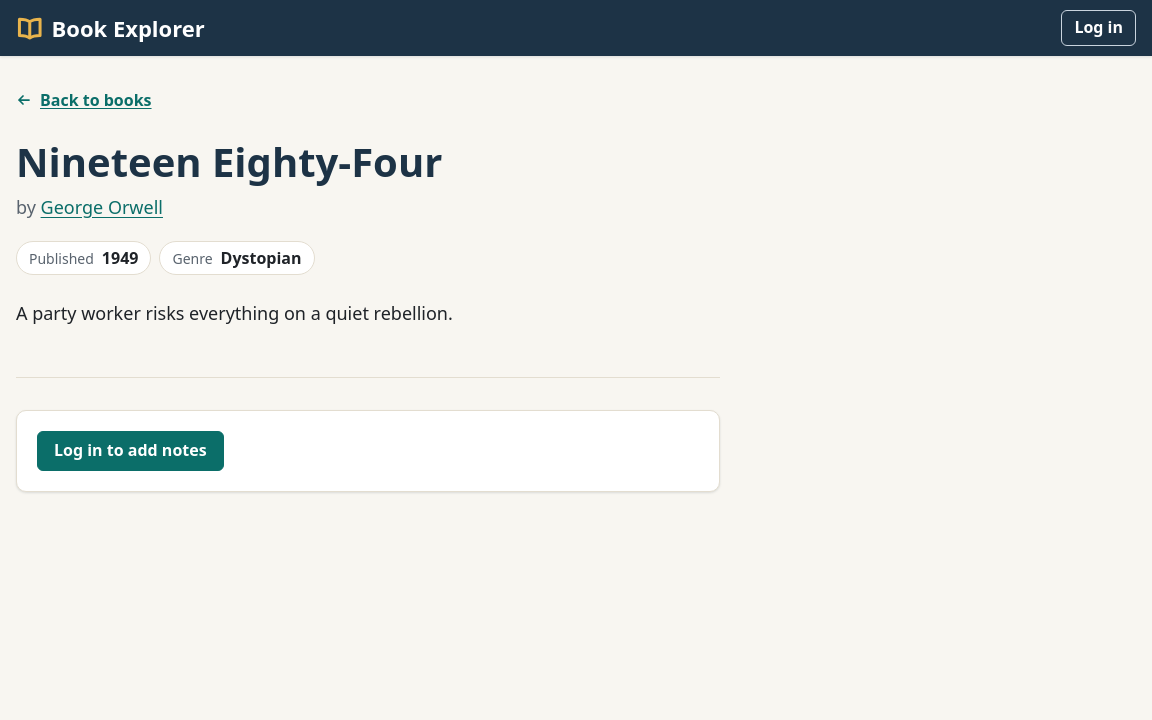
the author on a book's page opens the list of their books
Click the link "George Orwell" at (102, 207), box [41,195,163,219]
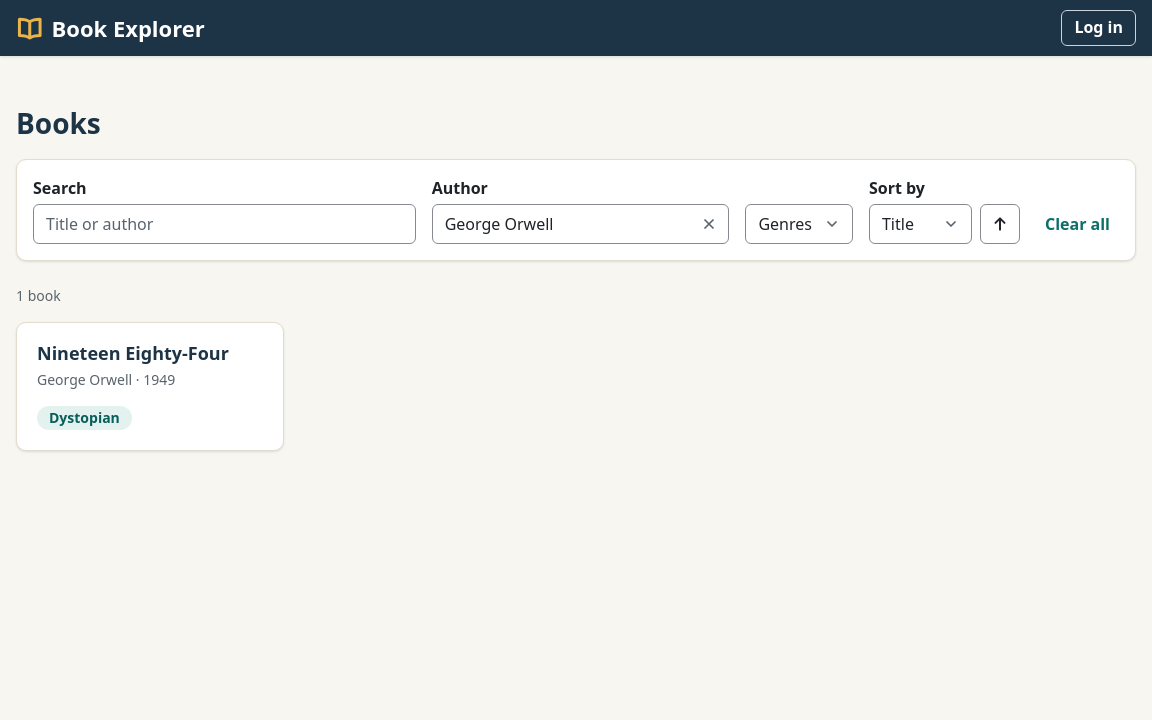
expect the link "Nineteen Eighty-Four" is shown: met, box [37,341,229,365]
expect the dropdown labelled "Author" holds "George Orwell": met, box [432,204,729,244]
